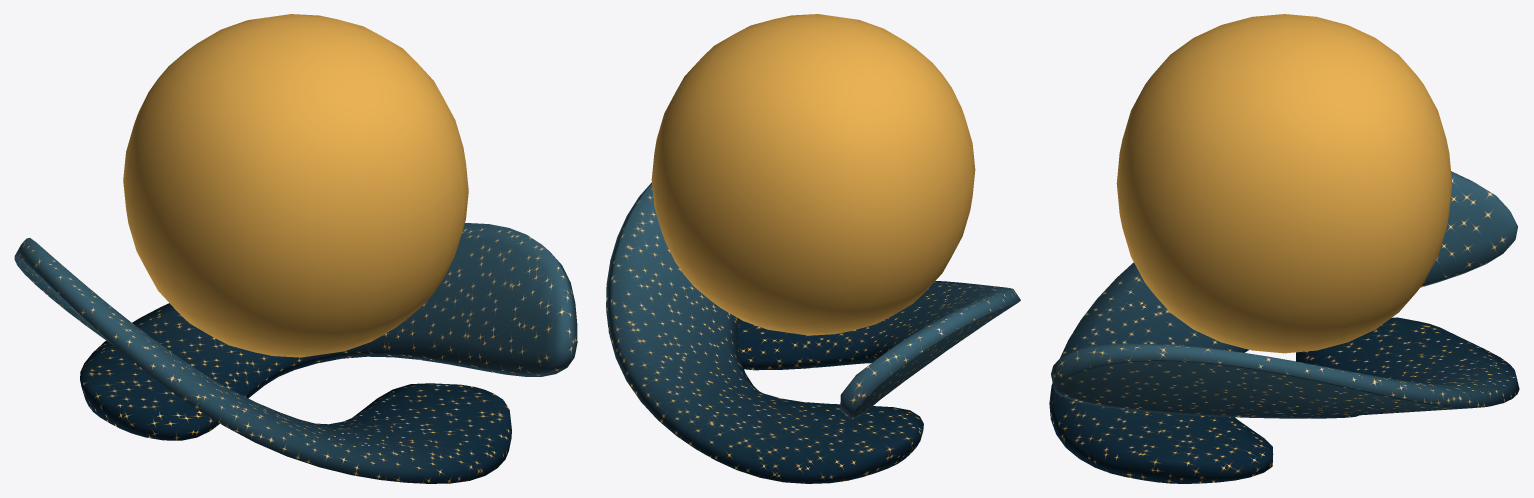
File: Sol.glb
3 views of the same model, side by side, from view 1: azimuth 30°, elevation 25°; view 2: azimuth 150°, elevation 25°; view 3: azimuth 270°, elevation 25° (orthographic). The views are drawn at different scales.
Parts seen in each view (by area): view 1: Sol, Sol_base; view 2: Sol, Sol_base; view 3: Sol, Sol_base.
Part boxes in pixels (x1,y1,x2,y2): Sol: (123,14,468,357); Sol_base: (14,223,577,483); Sol: (651,14,975,335); Sol_base: (606,182,1020,483); Sol: (1116,14,1452,353); Sol_base: (1049,171,1519,483).
Size of the model in its own units: 2.82 by 2.55 by 2.82.
Materials: 2 (1 with a texture image).
